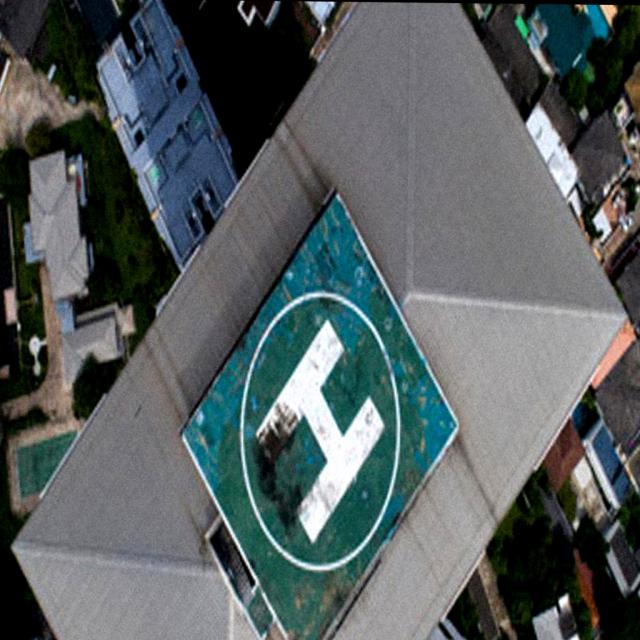helipad: (233, 289, 407, 573)
